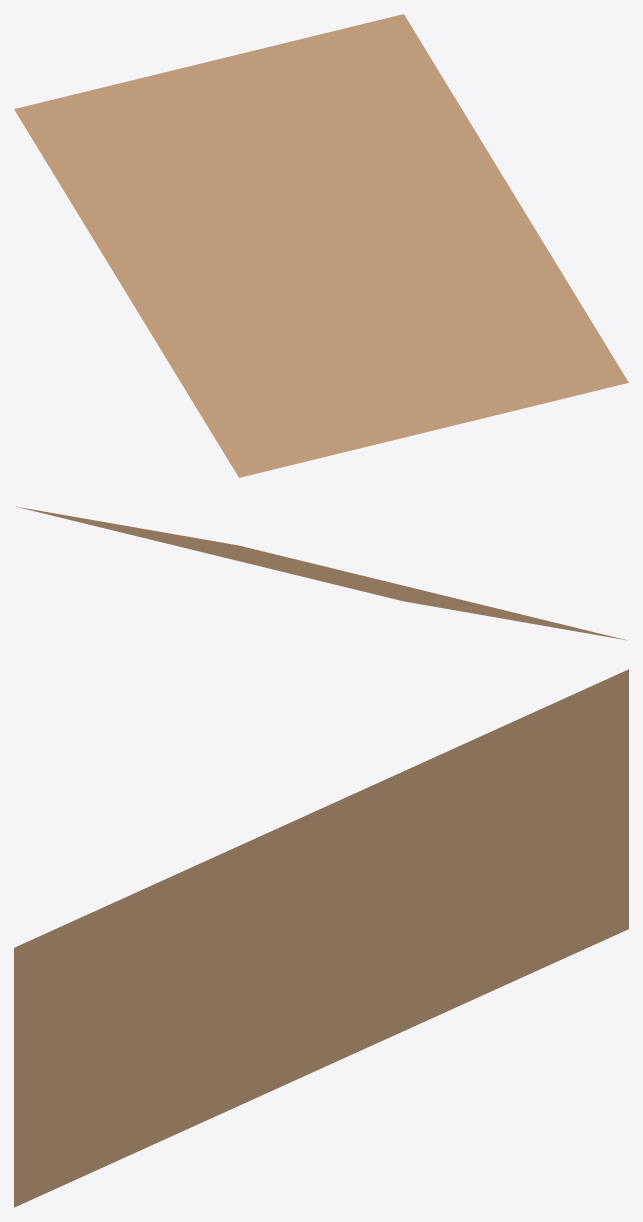
Rendered from terrain_side.fbx.
The picture shows the model from 3 angles, top to bottom: view 1: azimuth 30°, elevation 25°; view 2: azimuth 150°, elevation 25°; view 3: azimuth 270°, elevation 25°; orthographic projection. The views are drawn at different scales.
Visible parts, largest first — view 1: terrain_side; view 2: terrain_side; view 3: terrain_side.
Part boxes in pixels (x1=…): terrain_side: x1=14, y1=14, x2=628, y2=477; terrain_side: x1=16, y1=506, x2=626, y2=640; terrain_side: x1=14, y1=669, x2=628, y2=1207.
Size of the model in its own units: 100 by 50 by 100.
